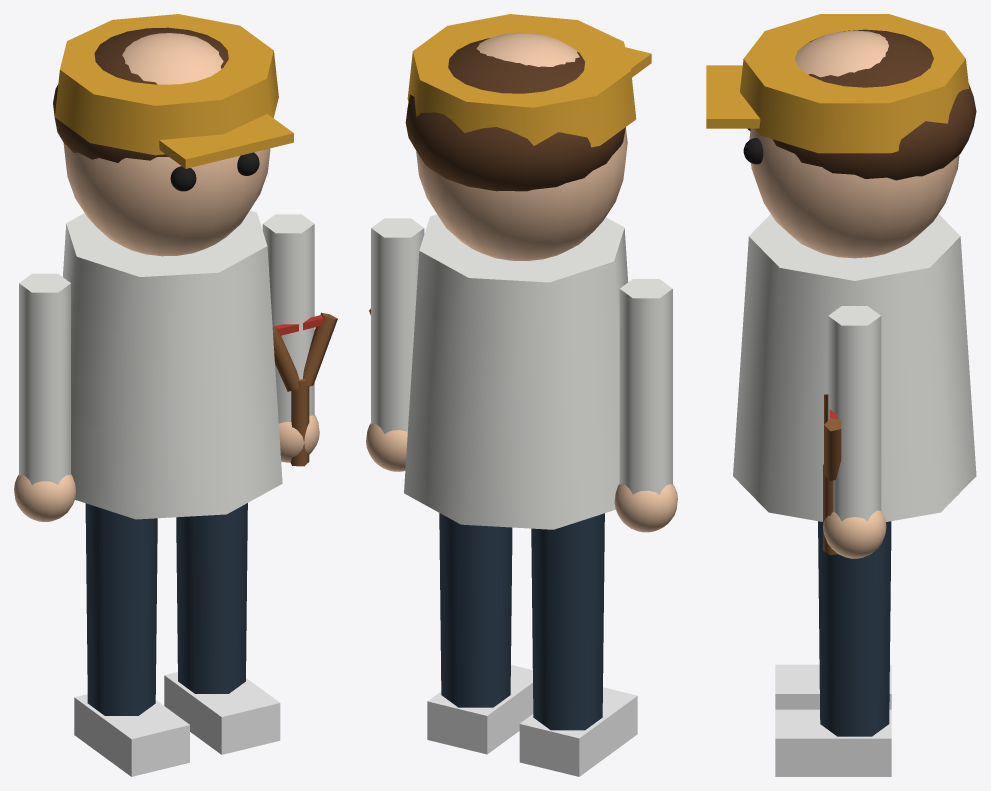
The model's file is kid_sling_2.glb.
3 views of the same model, side by side, from view 1: azimuth 30°, elevation 25°; view 2: azimuth 150°, elevation 25°; view 3: azimuth 270°, elevation 25° (orthographic). The views are drawn at different scales.
Parts seen in each view (by area): view 1: object 1, head, legL, legR, armL, armR; view 2: object 1, head, legL, legR, armL, armR; view 3: object 1, head, legR, armR, legL.
Boxes of the visible parts, bbox=[...] form: object 1: bbox=[63, 210, 282, 519]; head: bbox=[53, 14, 293, 256]; legL: bbox=[74, 503, 189, 776]; legR: bbox=[164, 503, 280, 754]; armL: bbox=[14, 273, 75, 521]; armR: bbox=[262, 214, 337, 466]; object 1: bbox=[404, 214, 628, 529]; head: bbox=[405, 14, 651, 260]; legL: bbox=[519, 513, 637, 776]; legR: bbox=[427, 513, 533, 754]; armL: bbox=[614, 279, 677, 532]; armR: bbox=[366, 218, 424, 471]; object 1: bbox=[733, 214, 976, 521]; head: bbox=[706, 14, 976, 258]; legR: bbox=[775, 521, 891, 776]; armR: bbox=[823, 306, 886, 558]; legL: bbox=[775, 664, 891, 709].
Size of the model in its own units: 0.683 by 1.46 by 0.51.
